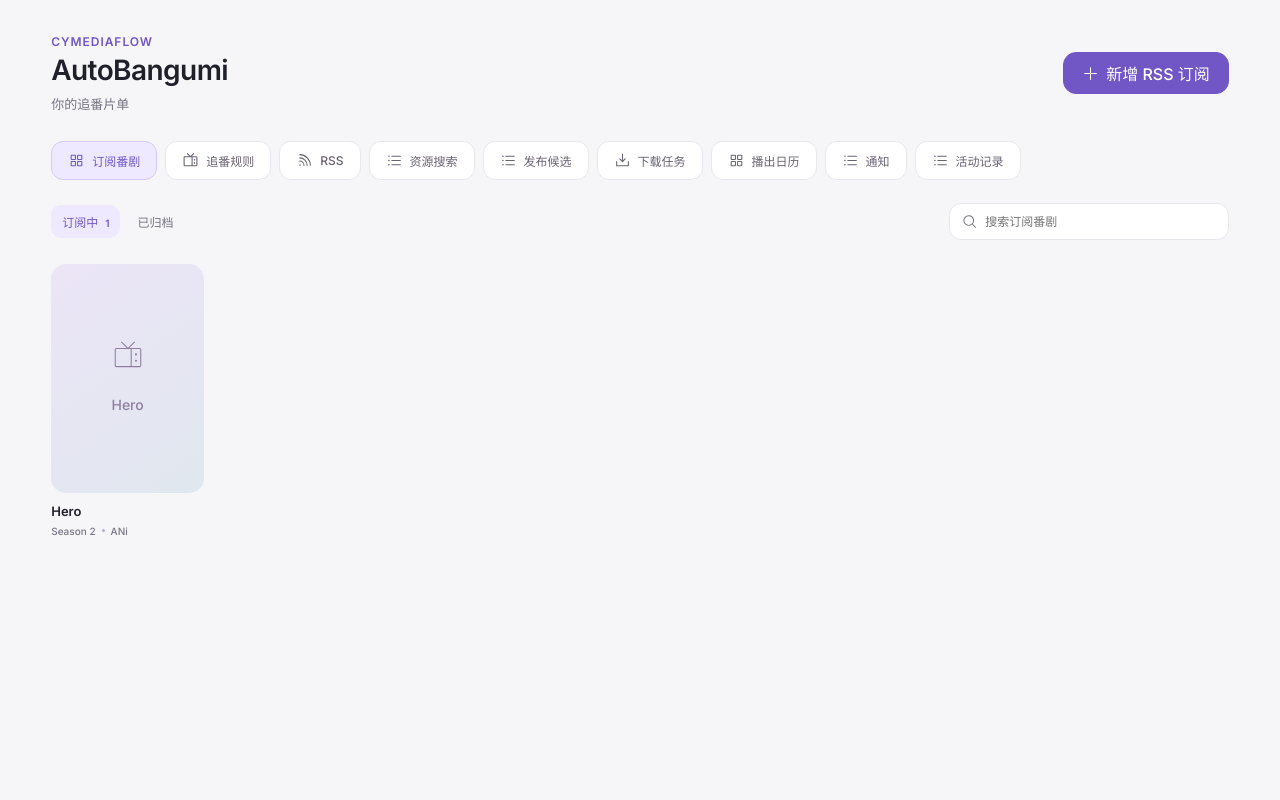
Test case: AutomationPage › requires explicit metadata search and keeps the original release alias
Click the button with aria-label "编辑 Hero 第 2 季" at (128,400), box [51,264,204,537]
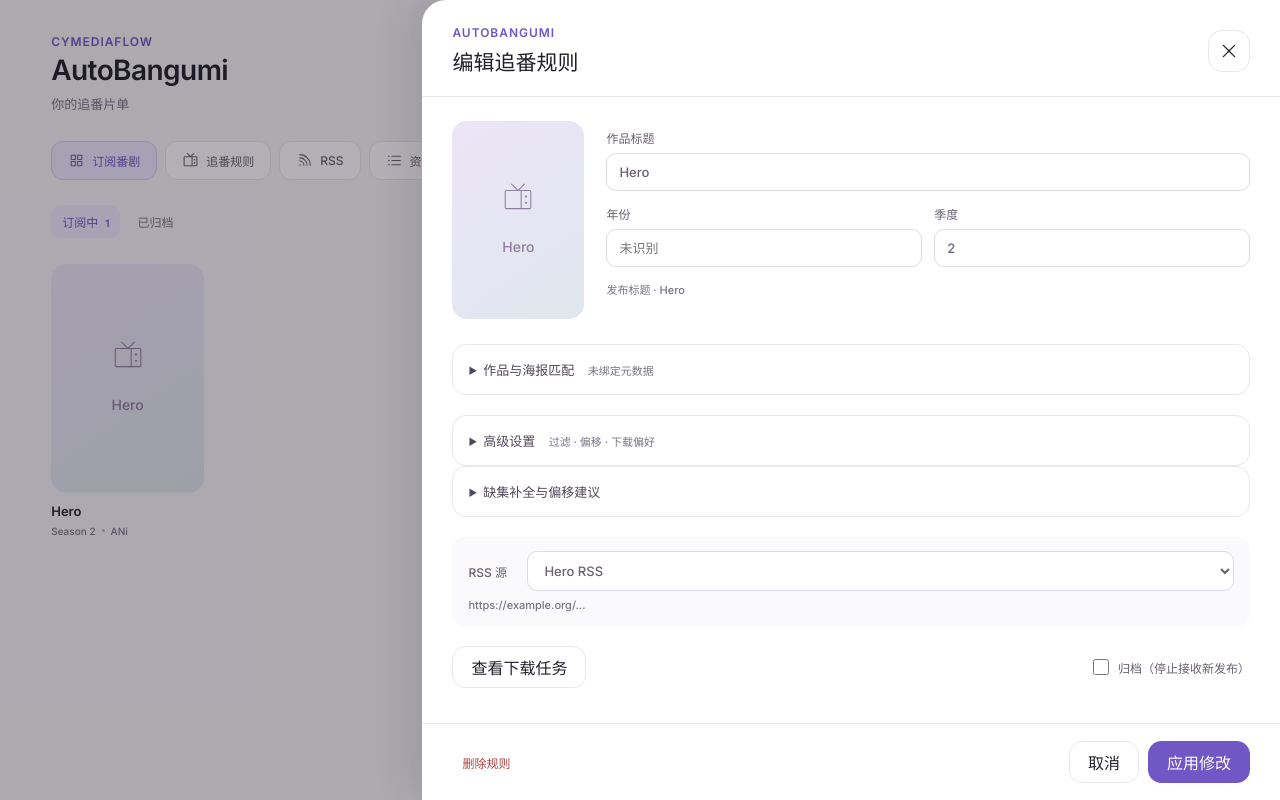
Click the heading "作品与海报匹配 未绑定元数据" at (568,370), box [483,362,654,378]
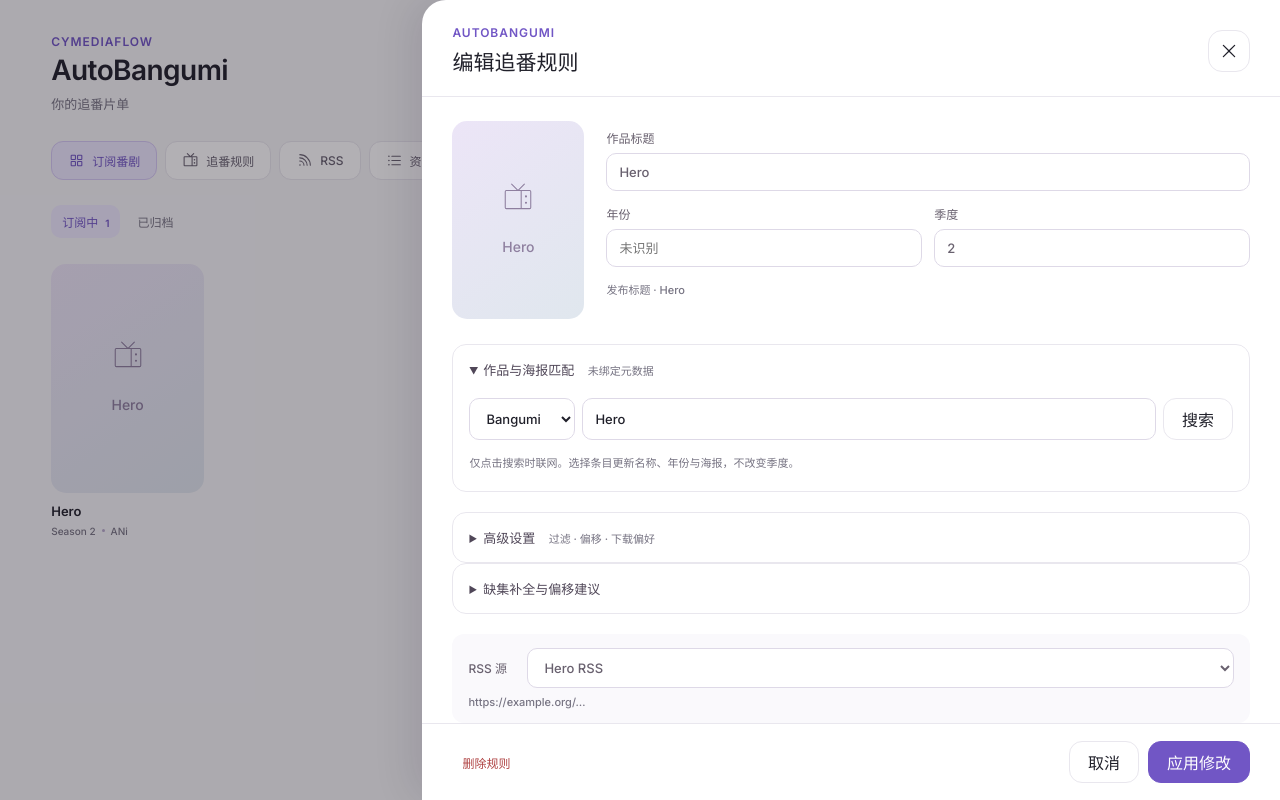
Click the button "搜索" at (1198,419), box [1163,398,1233,440]
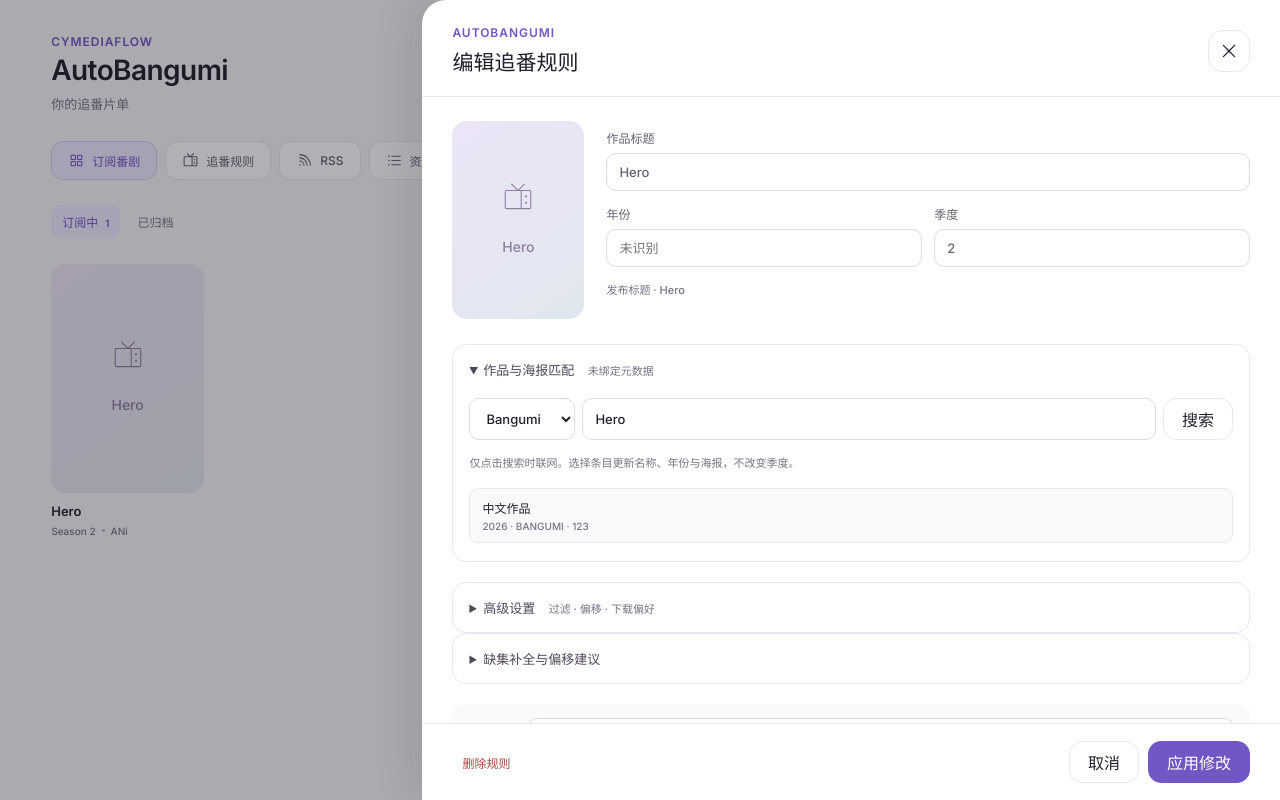
Click the button "中文作品 2026 · BANGUMI · 123" at (506,508), box [469,488,1233,543]
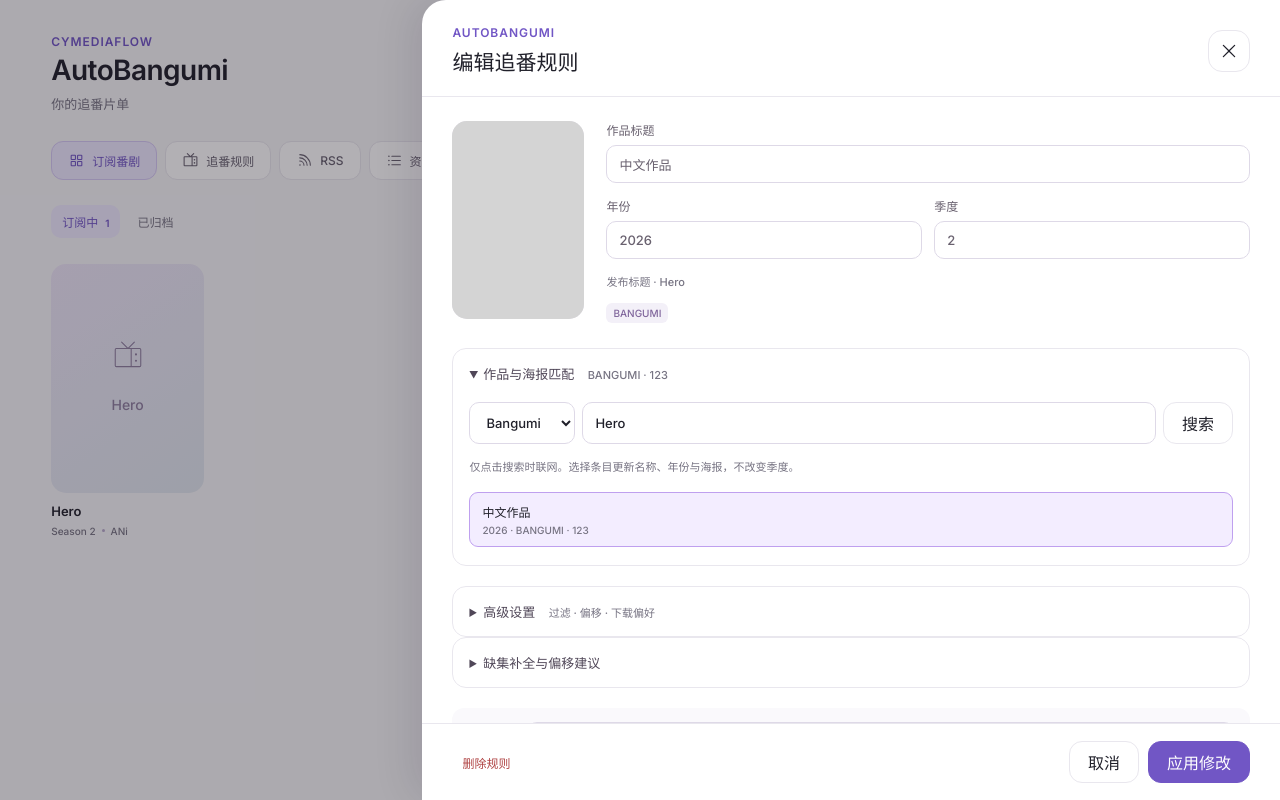
Expected: the field labelled "作品标题" holds "中文作品", [606,145,1250,183]
Click the button "应用修改" at (1199,762), box [1148,741,1250,783]
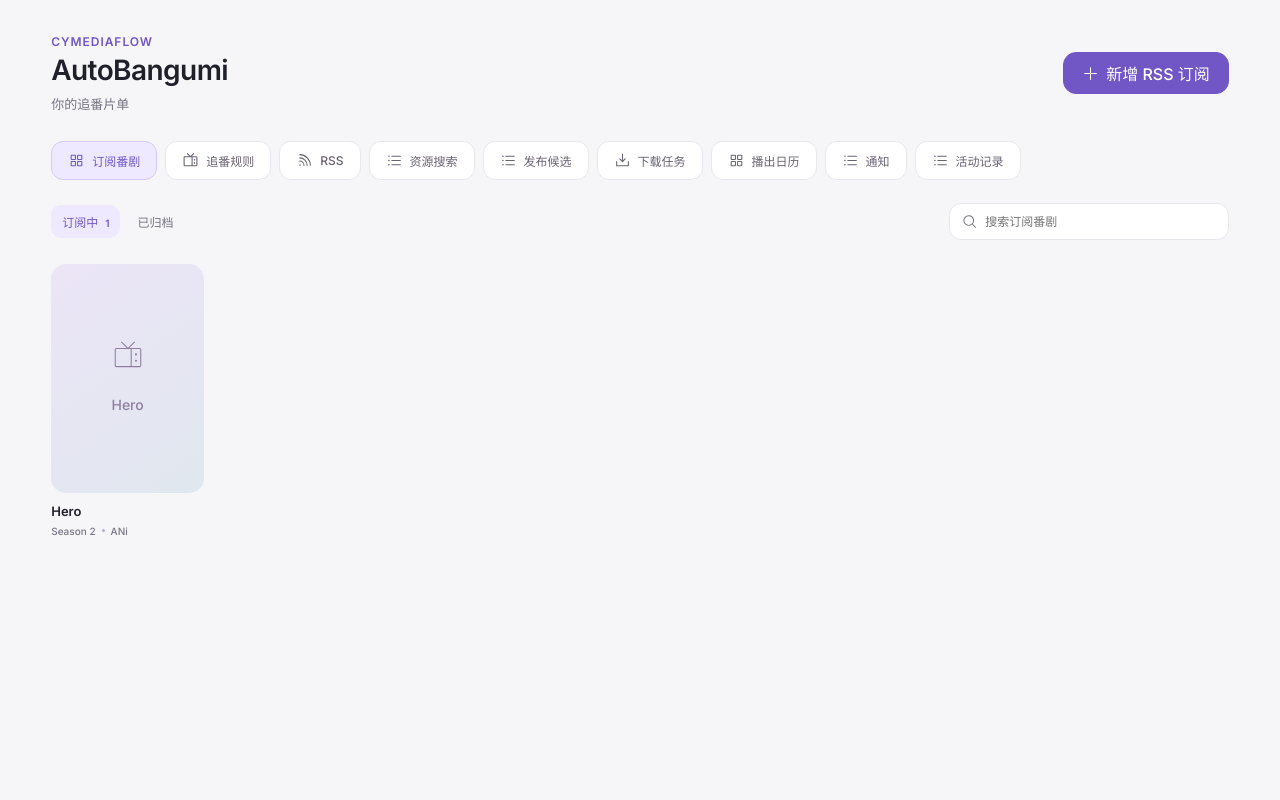
Expected: the dialog is gone
